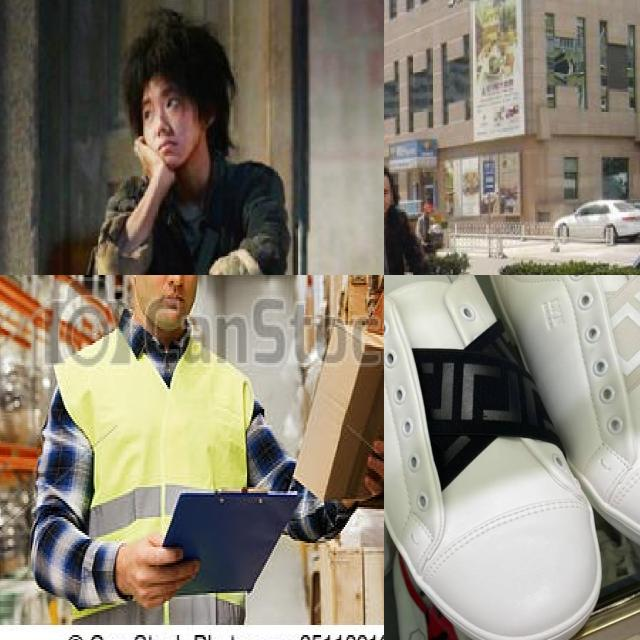No_Ear-Protection: (124, 275, 136, 285)
Sandals: (384, 275, 625, 640), (477, 275, 640, 574)
face_nomask: (137, 84, 211, 158), (135, 275, 198, 330), (384, 181, 393, 217)
hand_noglove: (115, 533, 200, 608), (134, 135, 174, 190), (364, 440, 384, 497), (420, 239, 424, 245)
head_nohelmet: (114, 20, 222, 89), (384, 163, 395, 183)
person: (72, 9, 324, 275)
